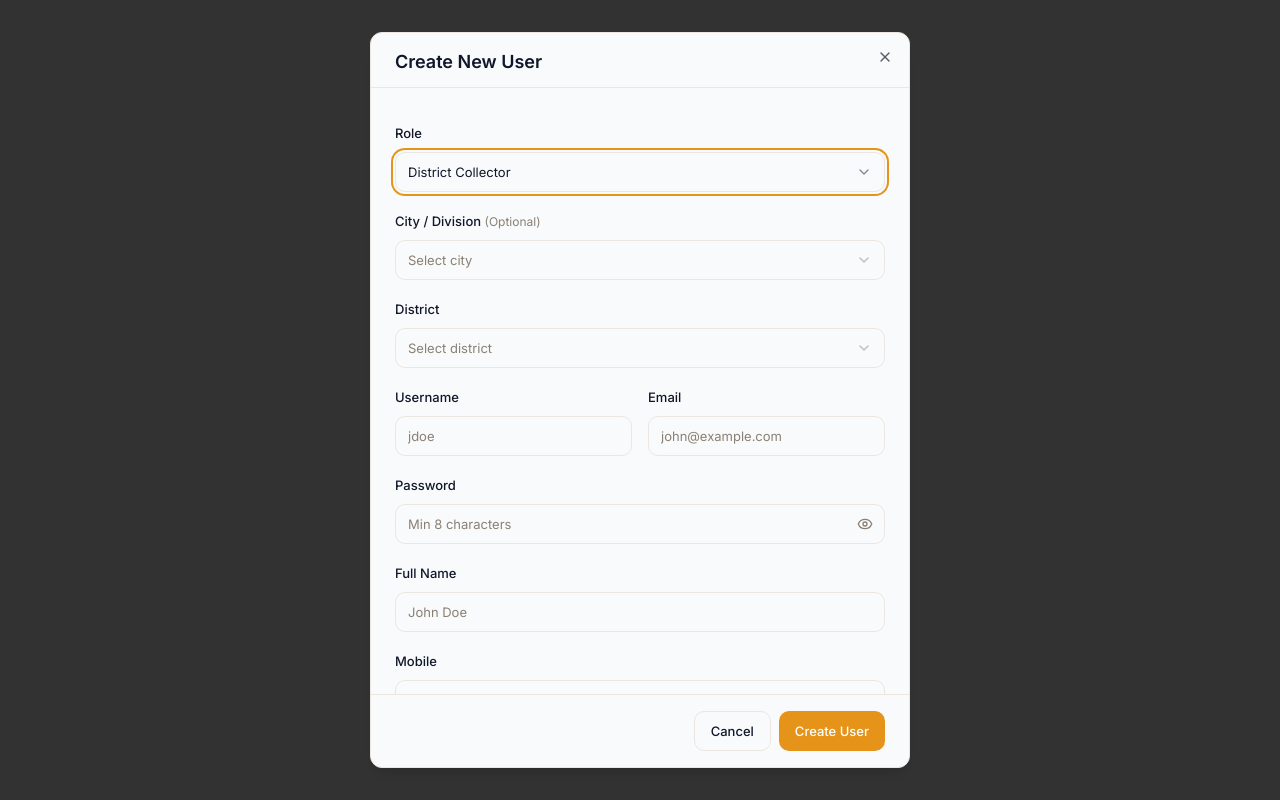
UserFormDialog — Send Credentials Email › should show the credentials toggle once password reaches 8 characters
Type "Admin@123" into the password field with placeholder "Min 8 characters" at (640, 524), box left=395, top=504, right=885, bottom=544
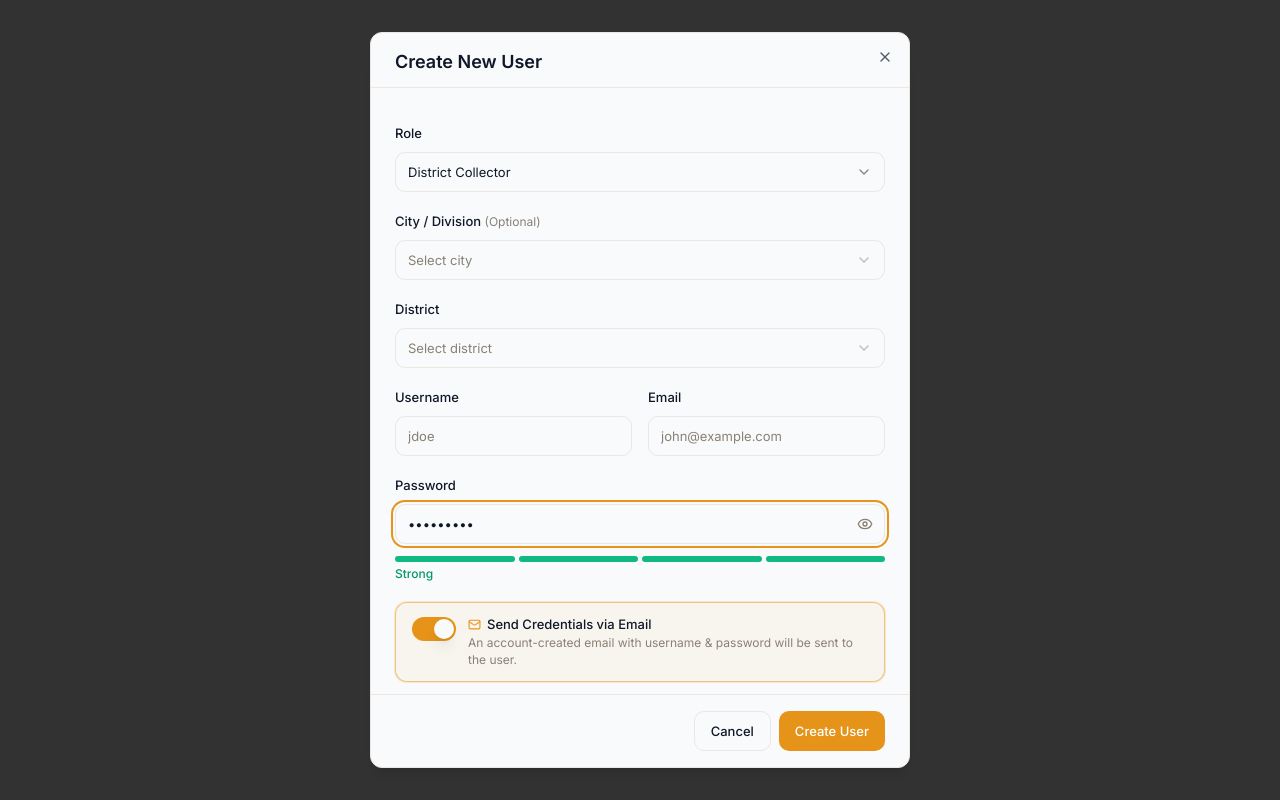
Expected: the text "Send Credentials via Email" is shown, left=487, top=615, right=652, bottom=633
